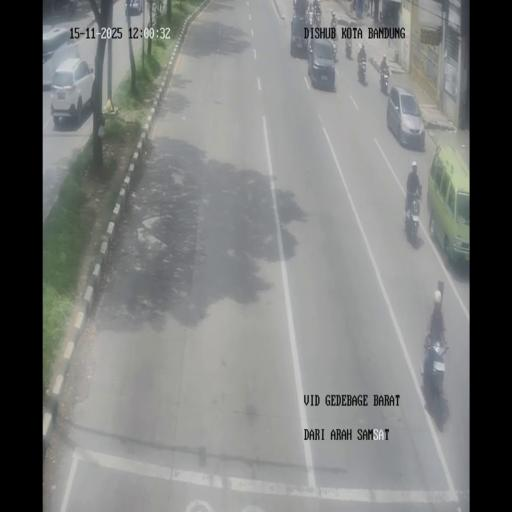car: (427, 144, 469, 267), (50, 57, 95, 125), (388, 86, 424, 148), (308, 38, 336, 88), (290, 12, 310, 56), (126, 0, 142, 16)
truck: (420, 332, 448, 413), (404, 186, 422, 242), (357, 56, 367, 84), (380, 68, 390, 95), (332, 35, 338, 62), (383, 7, 393, 23), (307, 4, 314, 26), (313, 8, 321, 27), (330, 10, 337, 30), (346, 38, 352, 59), (68, 0, 76, 15), (363, 1, 369, 17), (378, 9, 384, 22), (350, 0, 356, 12), (292, 0, 296, 12)
